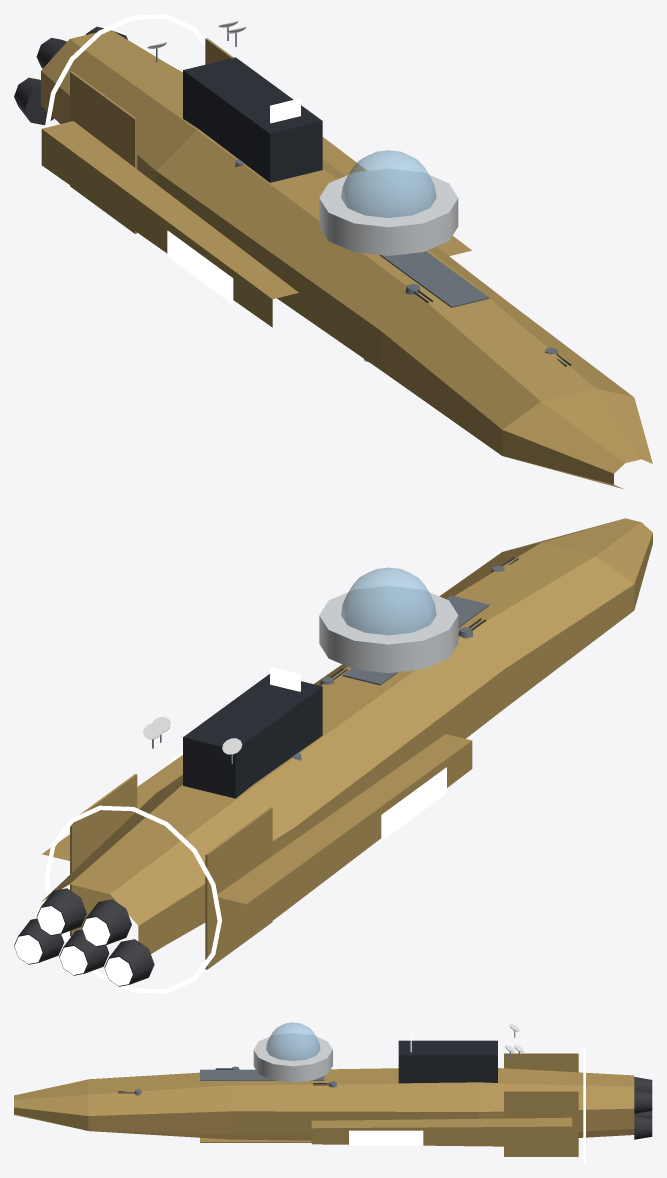
File: space_ship_command_ship_mk7.glb
The picture shows the model from 3 angles, top to bottom: view 1: azimuth 30°, elevation 25°; view 2: azimuth 150°, elevation 25°; view 3: azimuth 270°, elevation 25°; orthographic projection. The views are drawn at different scales.
Visible parts, largest first — view 1: body, hangar_r, engine_0; view 2: body, hangar_r, engine_0, engine_1, engine_3, engine_4, engine_2; view 3: body, hangar_l, engine_3, engine_4, engine_1.
Boxes of the visible parts, x1=… form: body: x1=41, y1=14, x2=652, y2=489; hangar_r: x1=167, y1=230, x2=233, y2=304; engine_0: x1=14, y1=77, x2=53, y2=125; body: x1=41, y1=518, x2=652, y2=993; hangar_r: x1=381, y1=767, x2=446, y2=840; engine_0: x1=104, y1=939, x2=154, y2=986; engine_1: x1=82, y1=899, x2=131, y2=946; engine_3: x1=36, y1=888, x2=86, y2=935; engine_4: x1=14, y1=918, x2=64, y2=964; engine_2: x1=59, y1=929, x2=109, y2=975; body: x1=14, y1=1022, x2=634, y2=1163; hangar_l: x1=349, y1=1130, x2=423, y2=1145; engine_3: x1=634, y1=1089, x2=652, y2=1113; engine_4: x1=634, y1=1115, x2=652, y2=1139; engine_1: x1=634, y1=1077, x2=652, y2=1092.
Size of what is drawn, in the model's own units: 31.34 by 32.6 by 142.
